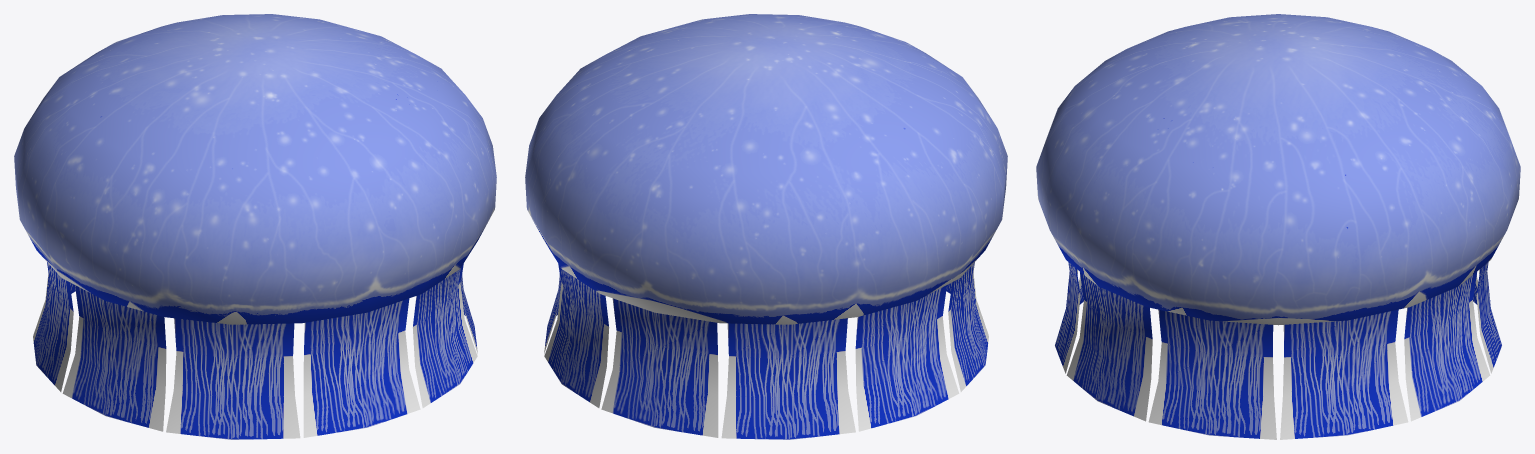
The model's file is uploads_files_971686_Jellyfish_NoAnim.fbx.
The picture shows the model from 3 angles, left to right: view 1: azimuth 30°, elevation 25°; view 2: azimuth 150°, elevation 25°; view 3: azimuth 270°, elevation 25°; orthographic projection.
Visible parts, largest first — view 1: Jellyfish; view 2: Jellyfish; view 3: Jellyfish.
Part boxes in pixels (box(x1,y1,x2,y2)): Jellyfish: box(14, 14, 496, 439); Jellyfish: box(525, 14, 1007, 439); Jellyfish: box(1036, 14, 1520, 439).
Size of the model in its own units: 5.57 by 3.82 by 5.57.
